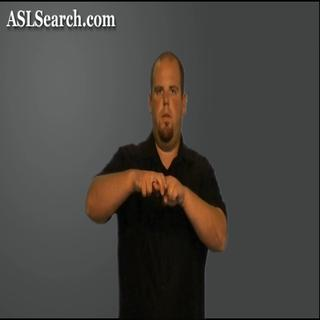chair: (130, 166, 188, 209)
